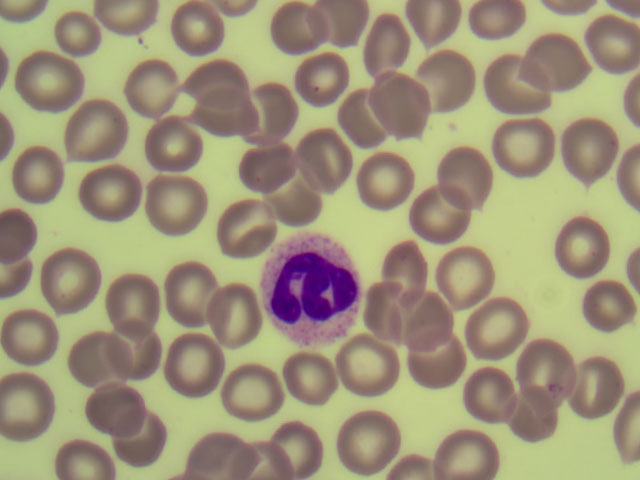RBC: (117, 415, 184, 480), (184, 415, 251, 480), (268, 415, 335, 480), (438, 415, 505, 480), (15, 47, 82, 111), (39, 2, 106, 66), (115, 55, 182, 119), (62, 100, 129, 164), (13, 139, 80, 203), (78, 162, 145, 226), (141, 172, 208, 236), (141, 118, 208, 182), (184, 85, 251, 149), (183, 46, 250, 110), (173, 7, 240, 71), (237, 79, 304, 143), (285, 48, 352, 112), (264, 1, 331, 65), (353, 10, 420, 74), (365, 79, 432, 143), (332, 85, 399, 149), (286, 127, 353, 191), (224, 126, 291, 190), (262, 174, 329, 238), (215, 198, 282, 262), (159, 256, 226, 320), (194, 280, 261, 344), (165, 334, 232, 398), (106, 317, 173, 381), (99, 272, 166, 336), (70, 329, 137, 393), (3, 301, 70, 365), (41, 245, 108, 309), (7, 372, 74, 436), (81, 370, 148, 434), (223, 364, 290, 428), (271, 334, 338, 398), (324, 343, 391, 407), (343, 282, 410, 346), (402, 291, 469, 355), (374, 236, 441, 300), (455, 243, 522, 307), (464, 285, 531, 349), (456, 359, 523, 423), (491, 382, 558, 446), (513, 335, 580, 399), (565, 363, 632, 427), (337, 406, 404, 470), (347, 151, 414, 215), (397, 178, 464, 242), (424, 145, 491, 209), (497, 116, 564, 180), (417, 48, 484, 112), (478, 54, 545, 118), (522, 29, 589, 93), (573, 16, 640, 80), (558, 123, 625, 187), (550, 209, 617, 273), (570, 275, 637, 339)
WBC: (257, 232, 367, 344)
